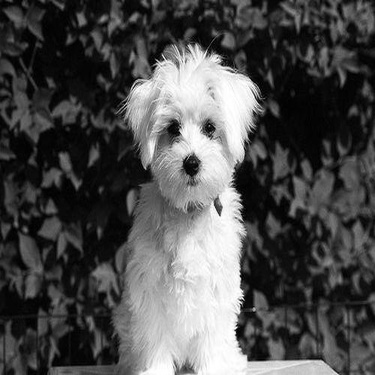dog: (95, 36, 261, 370)
